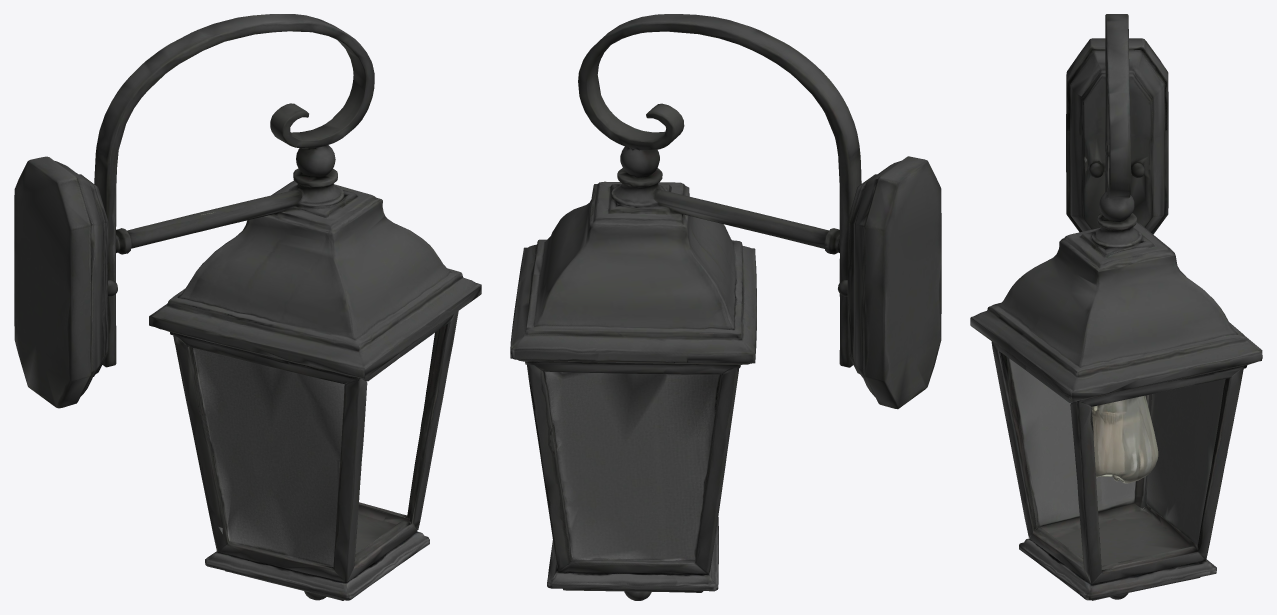
File: lantern.glb
3 views of the same model, side by side, from view 1: azimuth 30°, elevation 25°; view 2: azimuth 150°, elevation 25°; view 3: azimuth 270°, elevation 25° (orthographic). The views are drawn at different scales.
Visible parts, largest first — view 1: tripo_node_d0acc25a-cbff-4f93-b70c-04f4e6ec9c09; view 2: tripo_node_d0acc25a-cbff-4f93-b70c-04f4e6ec9c09; view 3: tripo_node_d0acc25a-cbff-4f93-b70c-04f4e6ec9c09.
Part boxes in pixels (box(x1,y1,x2,y2)): tripo_node_d0acc25a-cbff-4f93-b70c-04f4e6ec9c09: box(14, 14, 481, 600); tripo_node_d0acc25a-cbff-4f93-b70c-04f4e6ec9c09: box(510, 14, 941, 600); tripo_node_d0acc25a-cbff-4f93-b70c-04f4e6ec9c09: box(970, 14, 1262, 600).
Bounding box in the file's own units: 0.364 × 0.4997 × 0.2493.
Materials: 1 (1 with a texture image).
